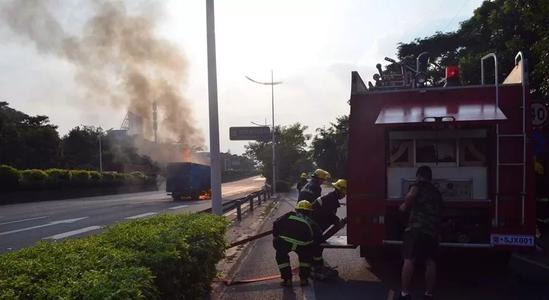smoke: (79, 13, 200, 155)
